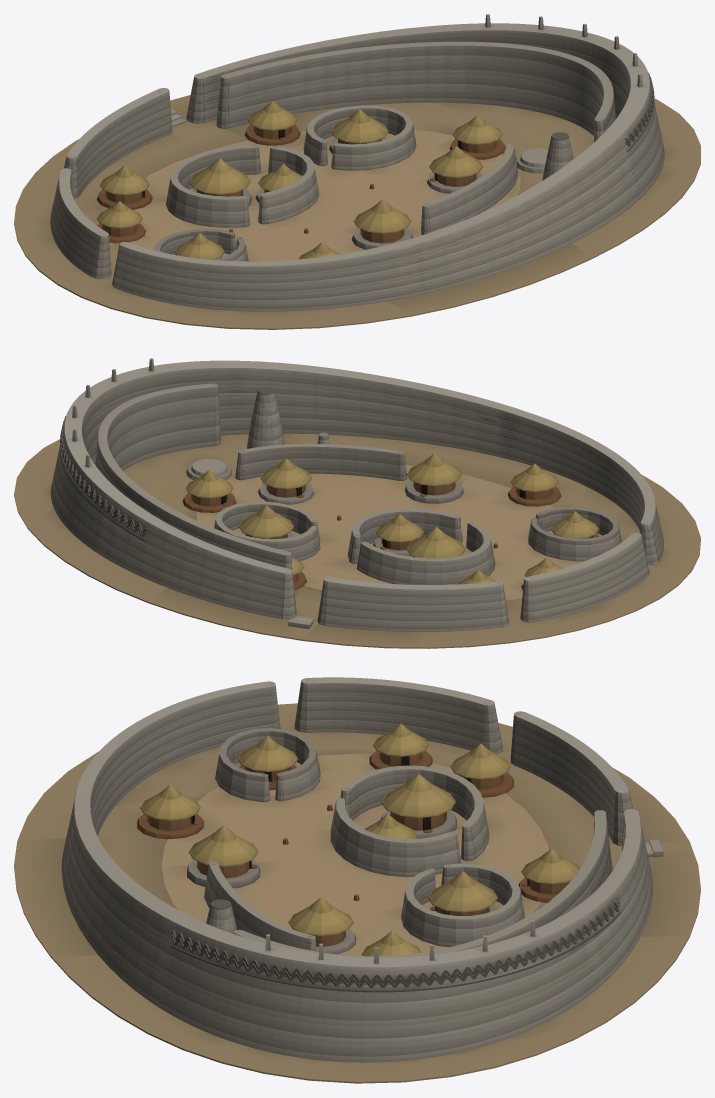
Rendered from great-enclosure.glb.
The picture shows the model from 3 angles, top to bottom: view 1: azimuth 30°, elevation 25°; view 2: azimuth 150°, elevation 25°; view 3: azimuth 270°, elevation 25°; orthographic projection. The views are drawn at different scales.
Visible parts, largest first — view 1: p1_outer-wall, p0_ground, p2_inner-walls, p3_houses; view 2: p1_outer-wall, p0_ground, p2_inner-walls, p3_houses; view 3: p1_outer-wall, p0_ground, p2_inner-walls, p3_houses.
Part boxes in pixels (left/top/right/bottom): p1_outer-wall: left=50, top=14, right=664, bottom=311; p0_ground: left=14, top=95, right=700, bottom=329; p2_inner-walls: left=154, top=41, right=615, bottom=261; p3_houses: left=96, top=101, right=505, bottom=259; p1_outer-wall: left=50, top=358, right=663, bottom=631; p0_ground: left=14, top=433, right=700, bottom=648; p2_inner-walls: left=95, top=383, right=621, bottom=584; p3_houses: left=182, top=453, right=598, bottom=590; p1_outer-wall: left=61, top=677, right=663, bottom=1062; p0_ground: left=14, top=703, right=700, bottom=1083; p2_inner-walls: left=204, top=728, right=612, bottom=957; p3_houses: left=137, top=723, right=580, bottom=956.
Size of the model in its own units: 101 by 13 by 77.49.
